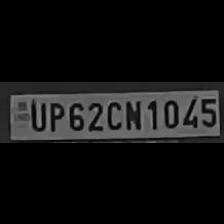0: (160, 96, 178, 128)
1: (143, 97, 159, 129)
2: (84, 98, 104, 130)
4: (180, 93, 198, 126)
5: (198, 93, 218, 126)
6: (64, 99, 84, 131)
C: (104, 96, 122, 130)
N: (123, 96, 143, 130)
P: (45, 99, 63, 131)
U: (27, 97, 45, 130)
